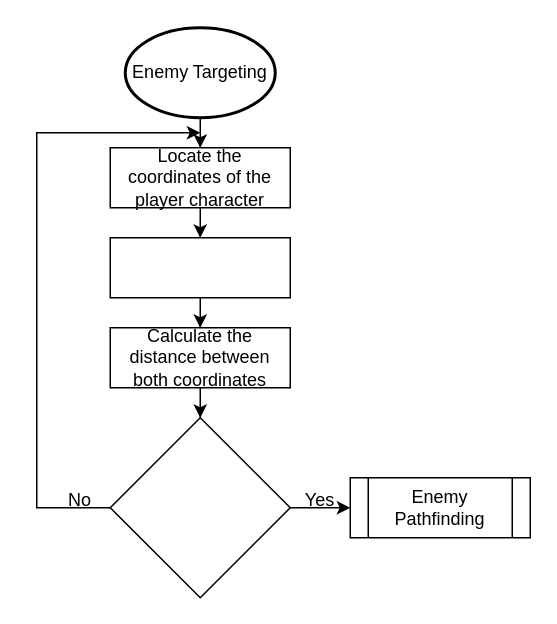
Some shapes in this 557 by 624 pixel diagram are drawn without their labels. The box of each missing label's shape, as (x1, y1, x2, y2) in pixels:
is the distance to the player lower than detection range?: (109, 416, 290, 598)
Locate the coordinates of the enemy character: (109, 236, 290, 298)
